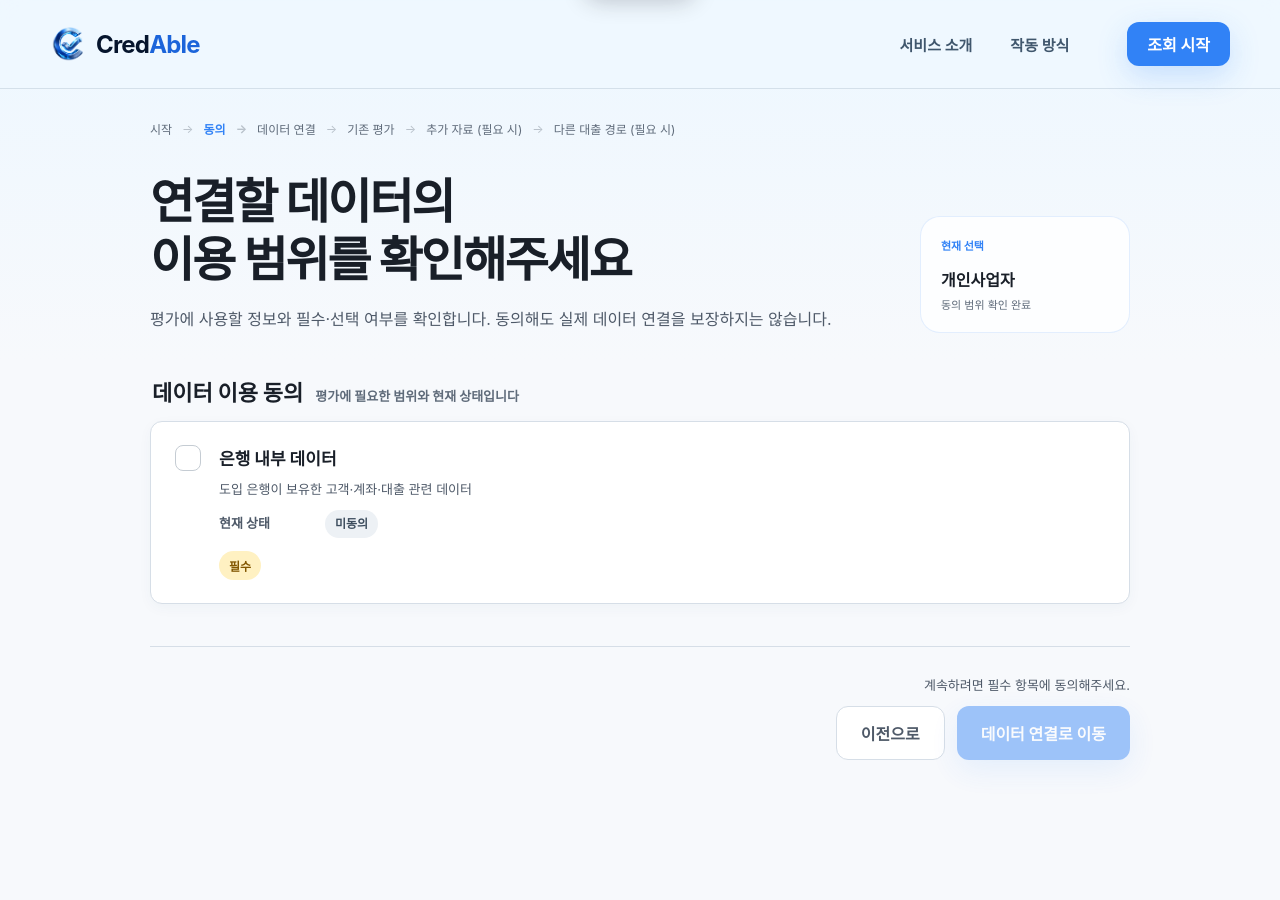
it: ConsentPage › updates the checkbox only after the grant response succeeds
The width and height of the screenshot is (1280, 900).
Expected: the button "데이터 연결로 이동" is disabled, [957, 706, 1130, 760]
Click the checkbox labelled "✓ 은행 내부 데이터 도입 은행이 보유한 고객·계좌·대출 관련 데이터 현재 상태 미동의 필수" at x=640, y=513, box [150, 421, 1130, 604]
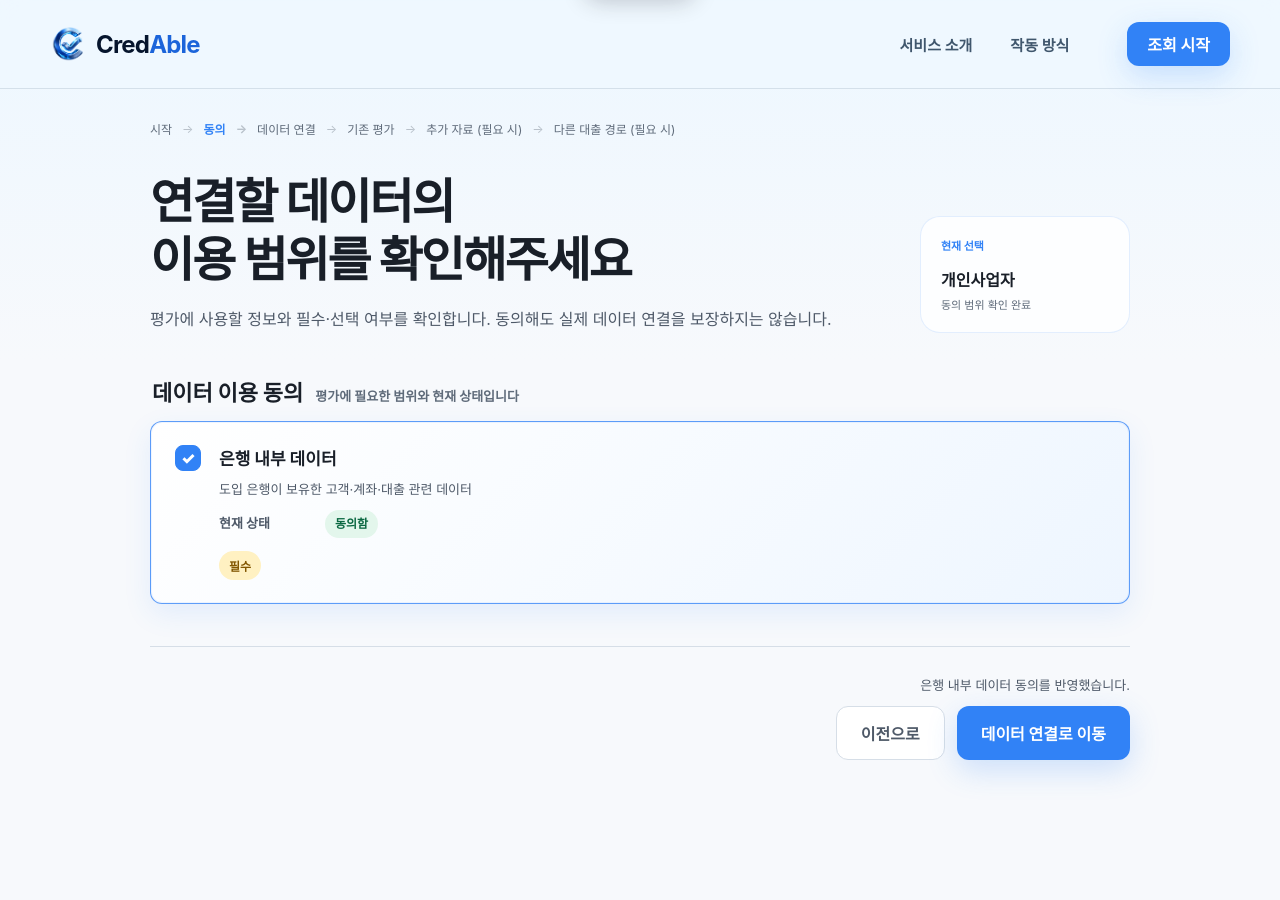
Expected: the checkbox labelled "✓ 은행 내부 데이터 도입 은행이 보유한 고객·계좌·대출 관련 데이터 현재 상태 동의함 필수" is checked, [150, 421, 1130, 604]
Expected: the text "은행 내부 데이터 동의를 반영했습니다." is shown, [920, 677, 1130, 693]
Expected: the button "데이터 연결로 이동" is enabled, [957, 706, 1130, 760]
